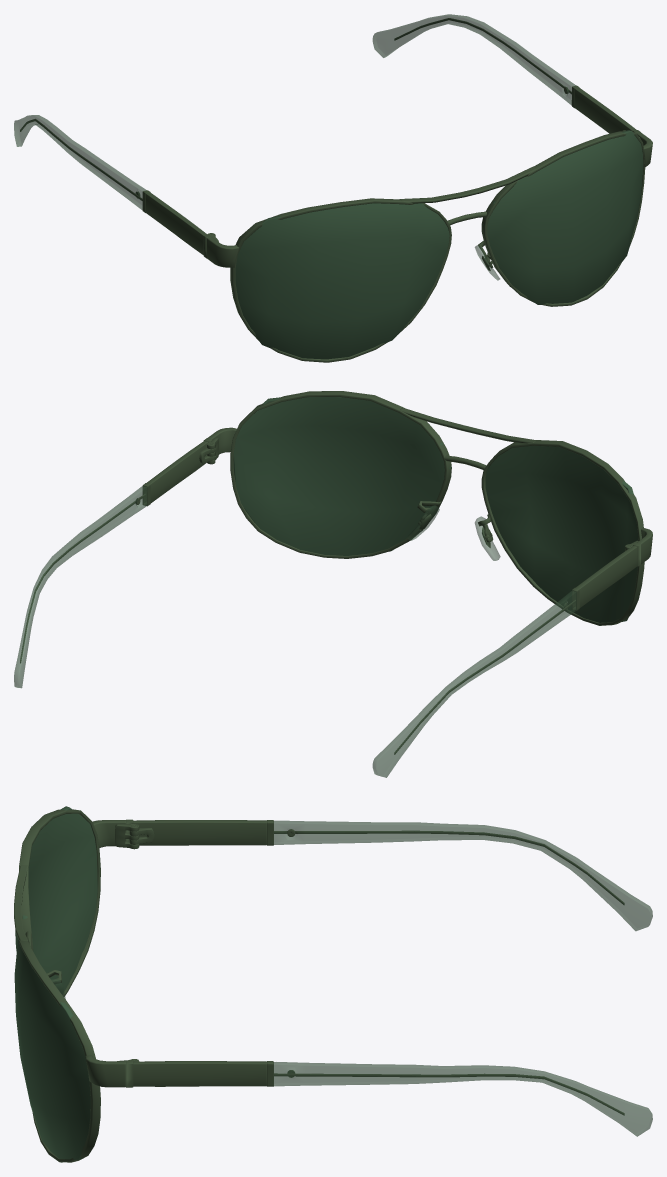
Rendered from cat-eye-zarif-zeytin-yesili.glb.
3 renders of one model, top to bottom at view 1: azimuth 30°, elevation 25°; view 2: azimuth 150°, elevation 25°; view 3: azimuth 270°, elevation 25°, orthographic. The views are drawn at different scales.
Parts seen in each view (by area): view 1: OPTIK_PRODUCT_270; view 2: OPTIK_PRODUCT_270; view 3: OPTIK_PRODUCT_270.
Part boxes in pixels (x1,y1,x2,y2): OPTIK_PRODUCT_270: (14,14,652,362); OPTIK_PRODUCT_270: (14,391,652,777); OPTIK_PRODUCT_270: (14,806,652,1162).
Size of the model in its own units: 0.1569 by 0.0556 by 0.1727.
